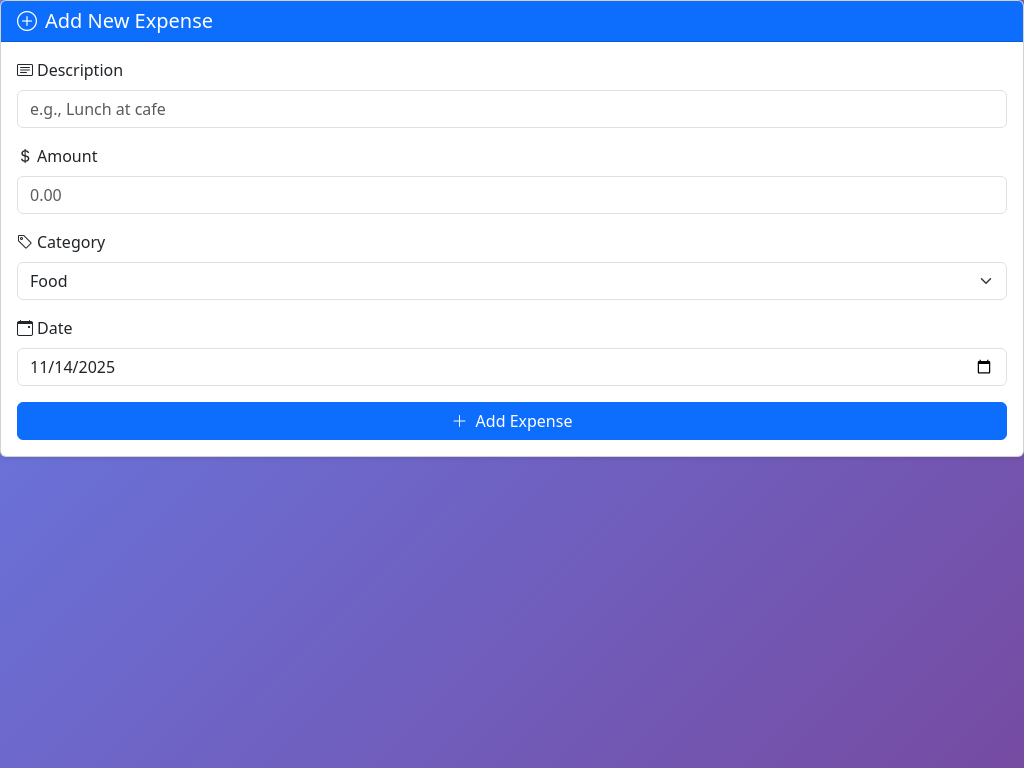
Test: ExpenseForm Component › should clear form fields after successful submission
Type "Test Expense" into the field labelled "Description".
click(512, 109); type("Test Expense")  # box x1=17 y1=90 x2=1007 y2=128
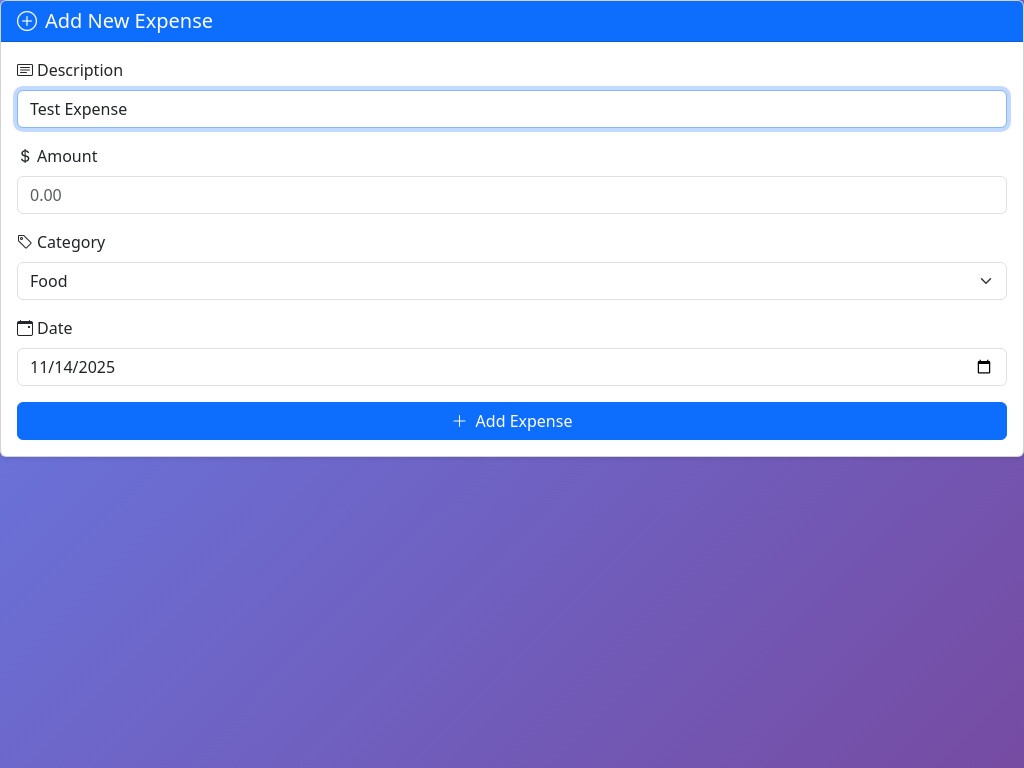
Type "50" into the number field labelled "Amount".
click(512, 195); type("50")  # box x1=17 y1=176 x2=1007 y2=214
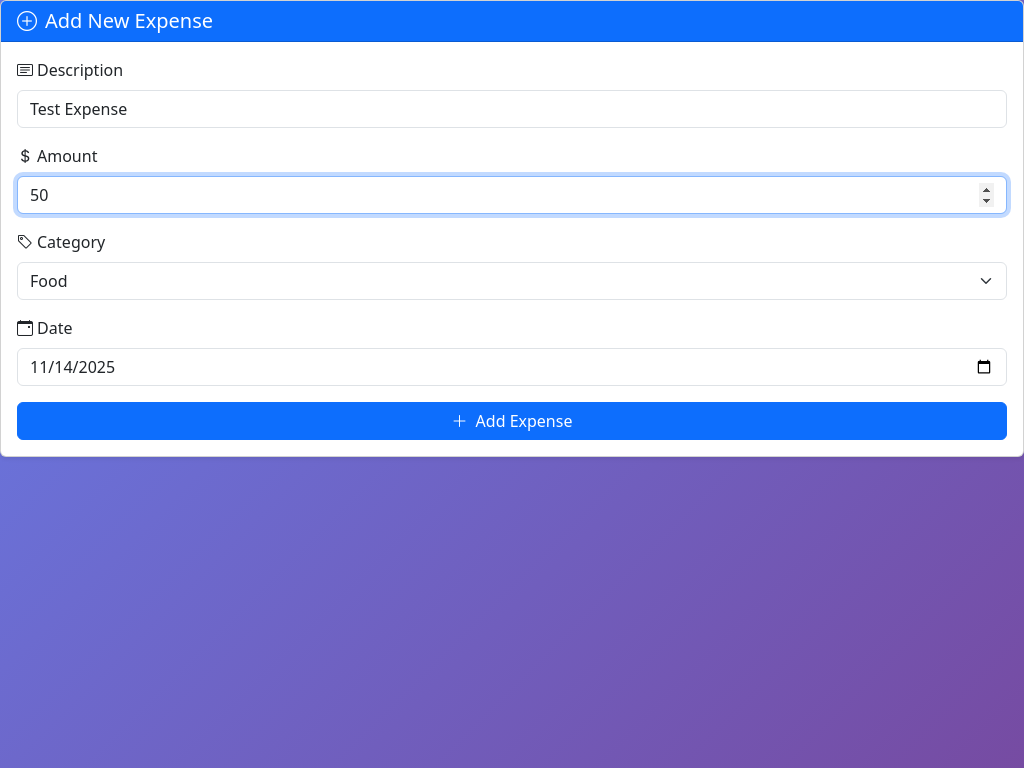
Click the button "Add Expense".
click(512, 421)  # box x1=17 y1=402 x2=1007 y2=440
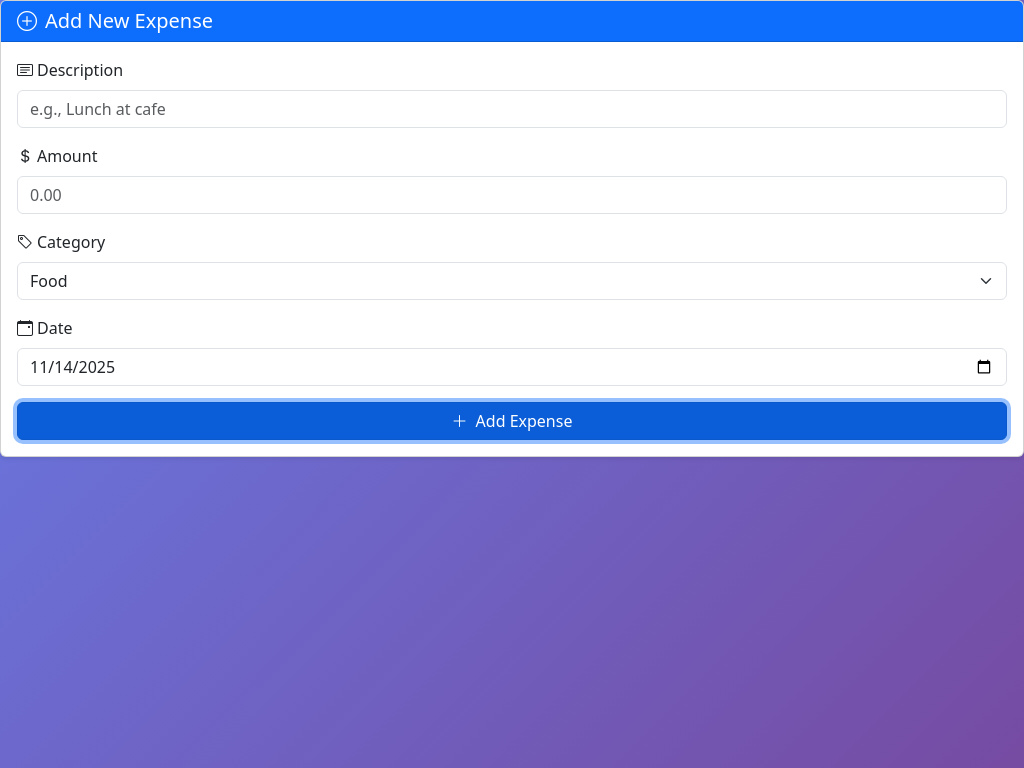
Expected: the field labelled "Description" is empty, x1=17 y1=90 x2=1007 y2=128
Expected: the number field labelled "Amount" is not empty, x1=17 y1=176 x2=1007 y2=214
